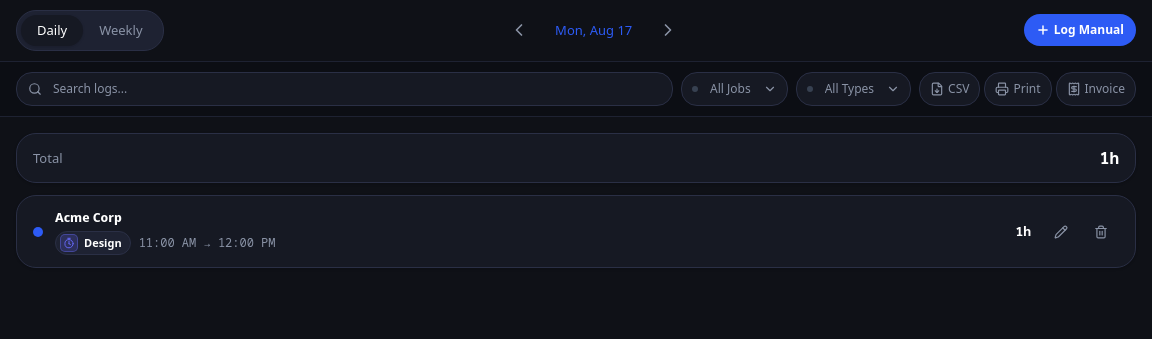
Test case: TimesheetsView — search filters entries › hides entry when search does not match — shows empty state
The width and height of the screenshot is (1152, 339).
Type "xyzzy" into the search field named "search time entries".
click(344, 89); type("xyzzy")  # box [16, 72, 673, 106]
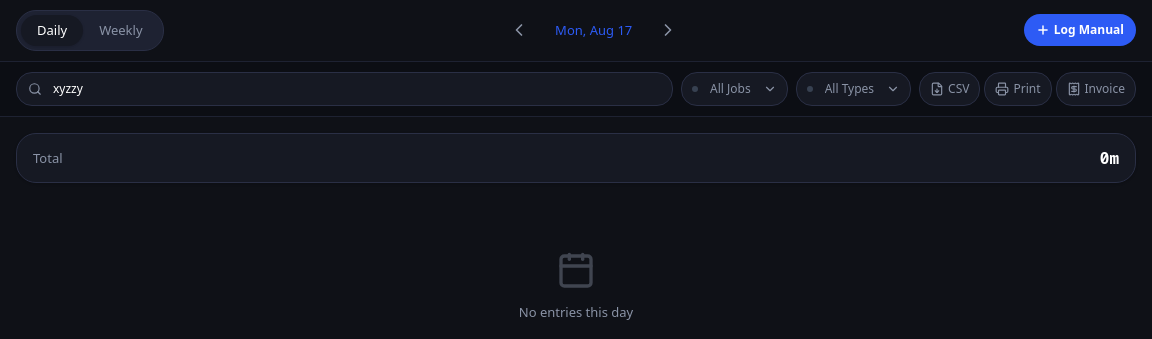
expect the text "No entries this day" is shown: met, box [519, 303, 633, 322]
